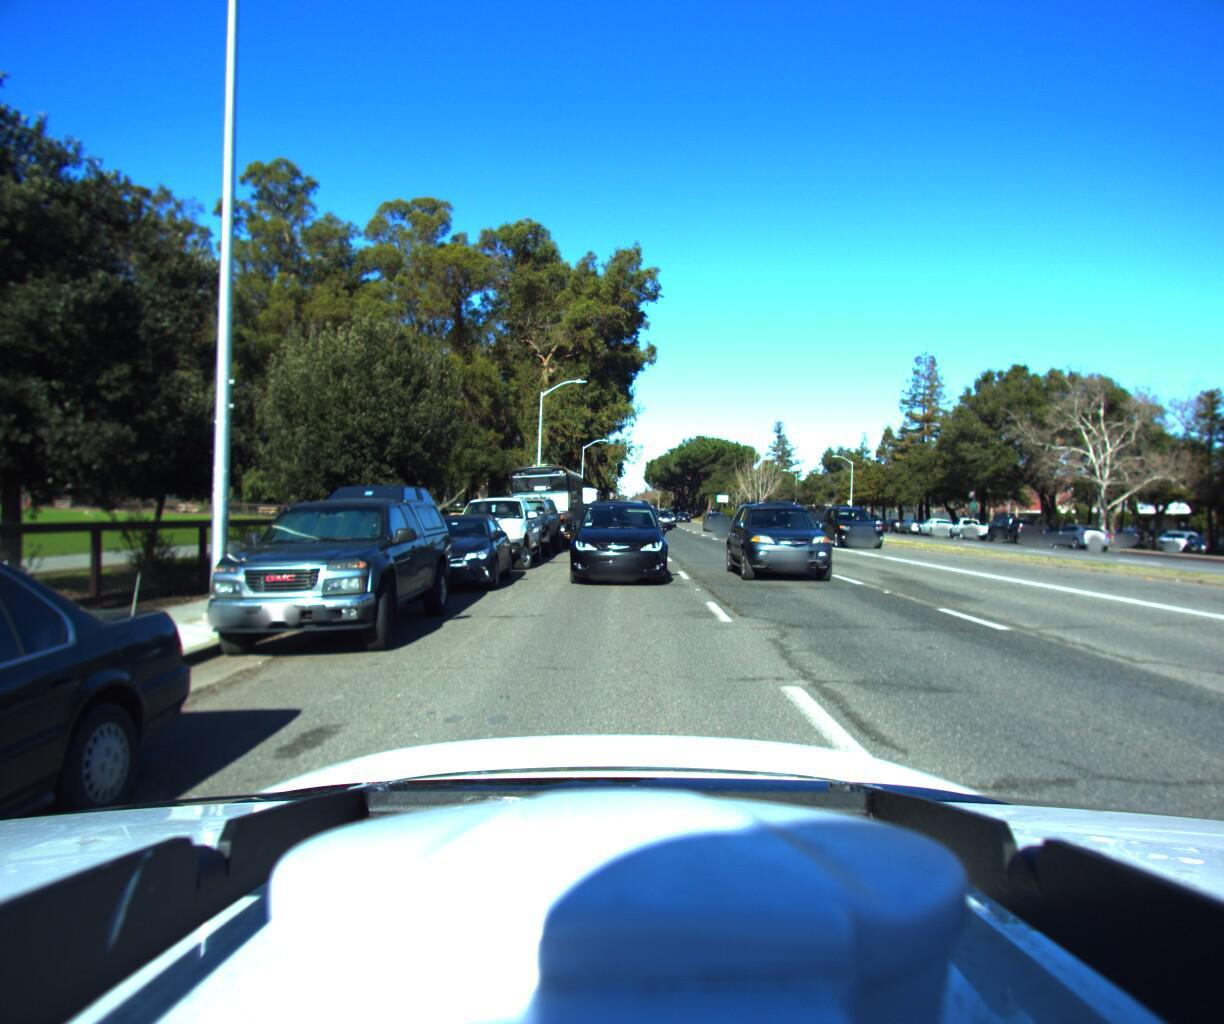bus: (502, 456, 588, 554)
car: (0, 534, 221, 1024), (180, 473, 463, 675), (724, 495, 861, 593), (388, 513, 518, 603), (569, 498, 669, 594), (444, 493, 547, 576), (485, 493, 564, 562), (821, 505, 900, 549), (1040, 522, 1117, 553), (983, 515, 1048, 546), (946, 515, 995, 542), (915, 516, 960, 538), (702, 511, 735, 532), (653, 506, 676, 527)
other_vehicle: (554, 483, 602, 536)
